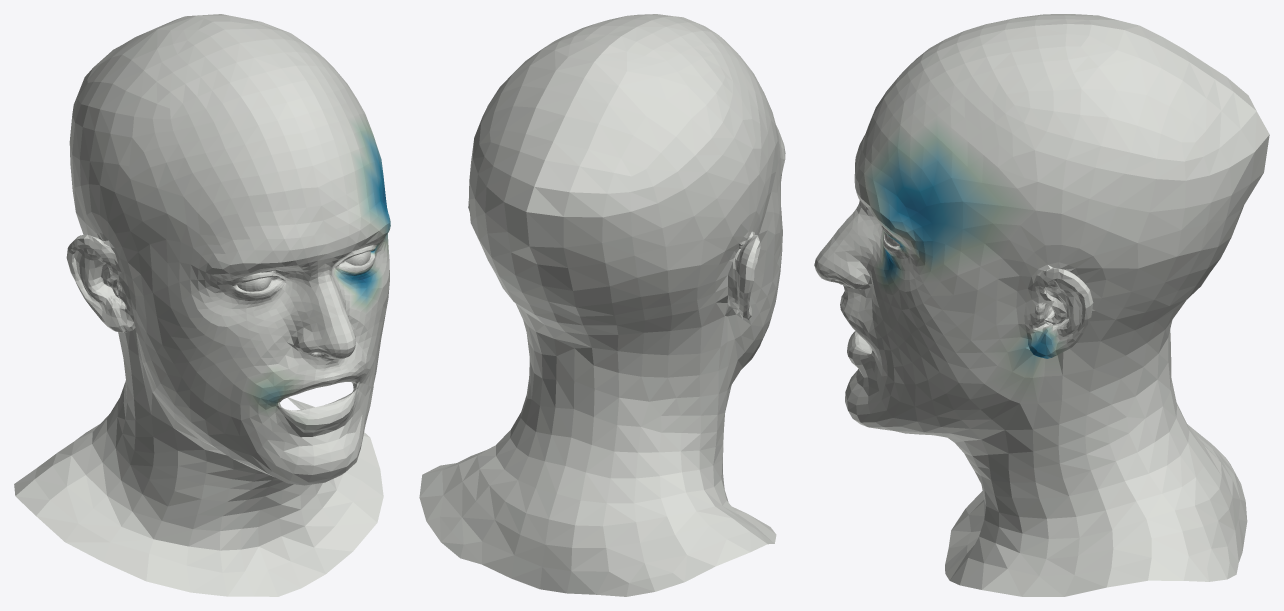
File: color.glb
3 views of the same model, side by side, from view 1: azimuth 30°, elevation 25°; view 2: azimuth 150°, elevation 25°; view 3: azimuth 270°, elevation 25° (orthographic). The views are drawn at different scales.
Parts seen in each view (by area): view 1: model; view 2: model; view 3: model.
Part boxes in pixels (bbox=[...]): model: bbox=[14, 14, 390, 596]; model: bbox=[419, 14, 785, 596]; model: bbox=[814, 14, 1269, 596].
Bounding box in the file's own units: 220 × 328 × 249.
